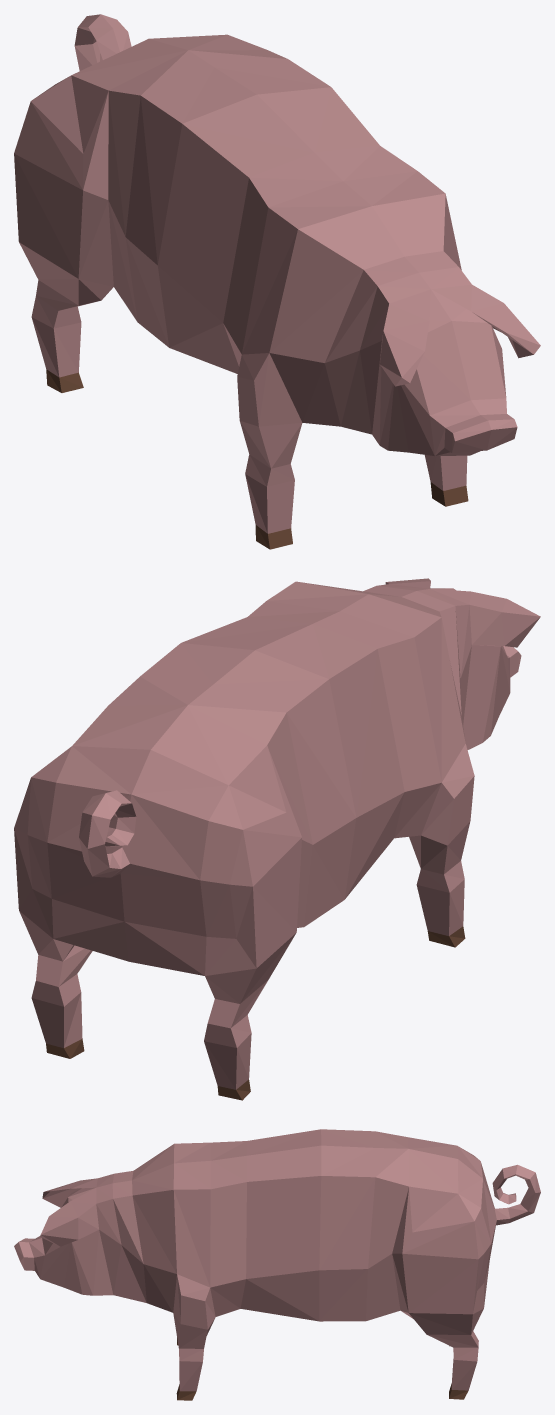
File: pig.glb
The picture shows the model from 3 angles, top to bottom: view 1: azimuth 30°, elevation 25°; view 2: azimuth 150°, elevation 25°; view 3: azimuth 270°, elevation 25°; orthographic projection. The views are drawn at different scales.
Parts seen in each view (by area): view 1: pig; view 2: pig; view 3: pig.
Part boxes in pixels (x1,y1,x2,y2): pig: (14, 14, 540, 549); pig: (14, 578, 540, 1100); pig: (14, 1129, 540, 1400).
Size of the model in its own units: 0.5416 by 0.75 by 1.6.
